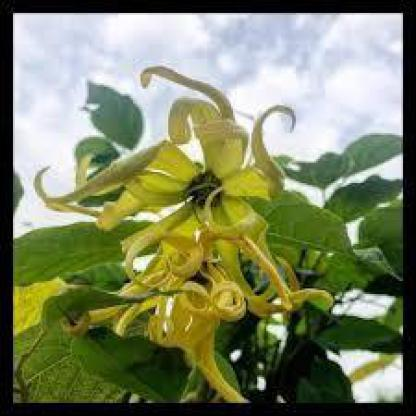Kenanga: (81, 70, 360, 277), (105, 231, 306, 401)
